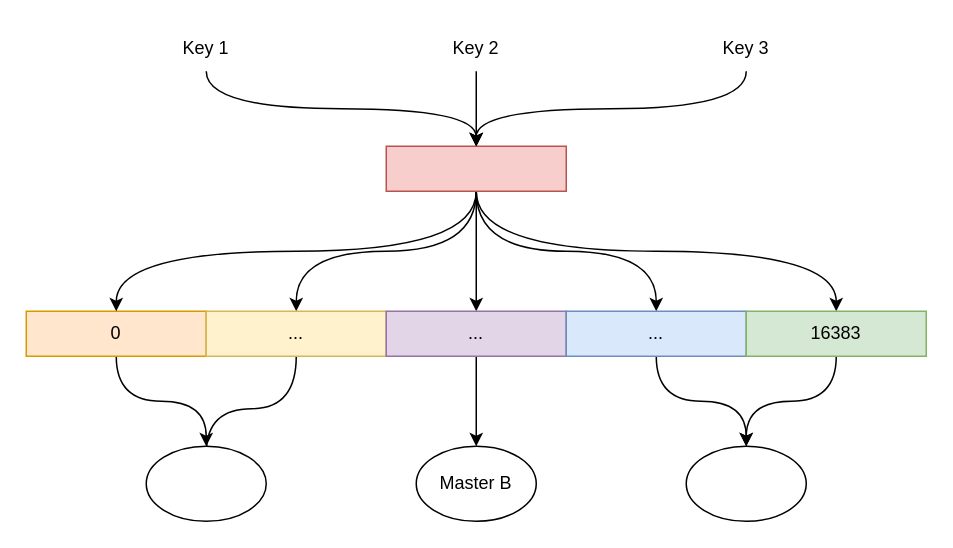
The diagram is 953 pixels wide and 548 high, and some of its shapes have lost their labels. Each missing label, with the centre of its shape:
"CRC16 算法" goes at pixel 475 168.
"Master A" goes at pixel 205 483.
"Master C" goes at pixel 745 483.
